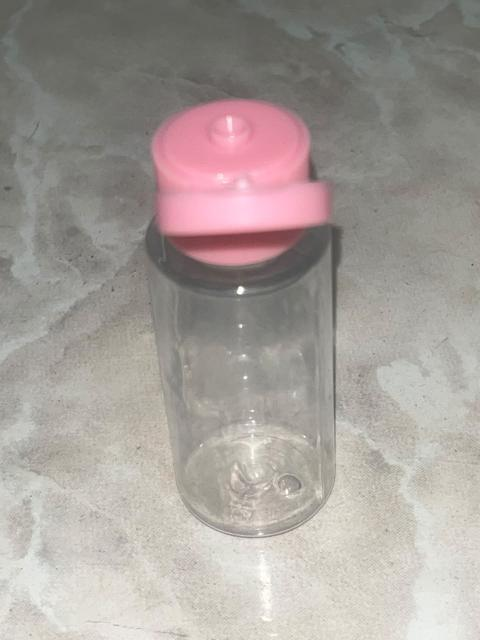PET: (114, 100, 366, 551)
